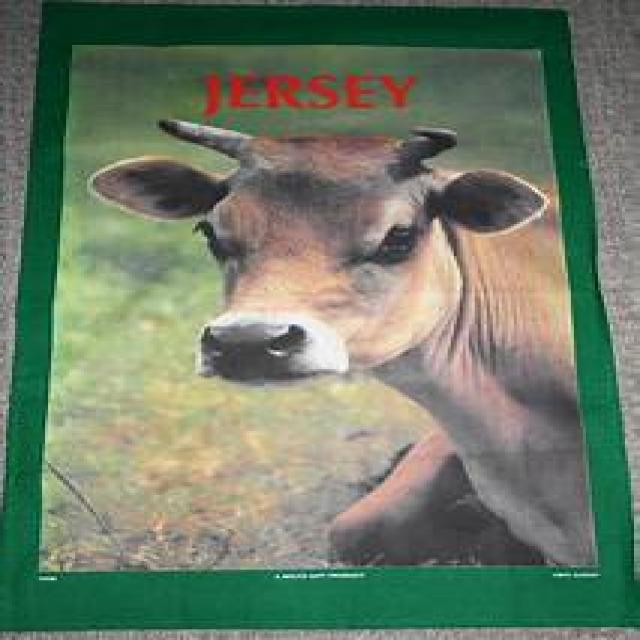cow: (90, 119, 595, 572)
